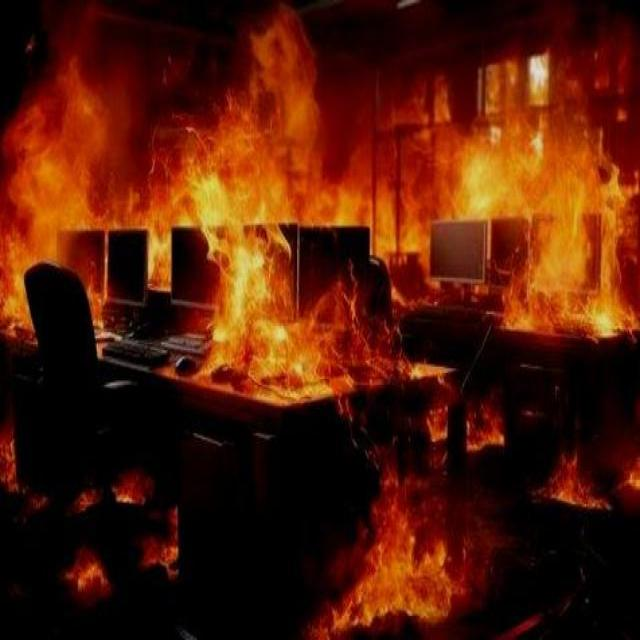Fire_Dangerous: (0, 76, 634, 379), (305, 394, 512, 640), (539, 448, 629, 517)
